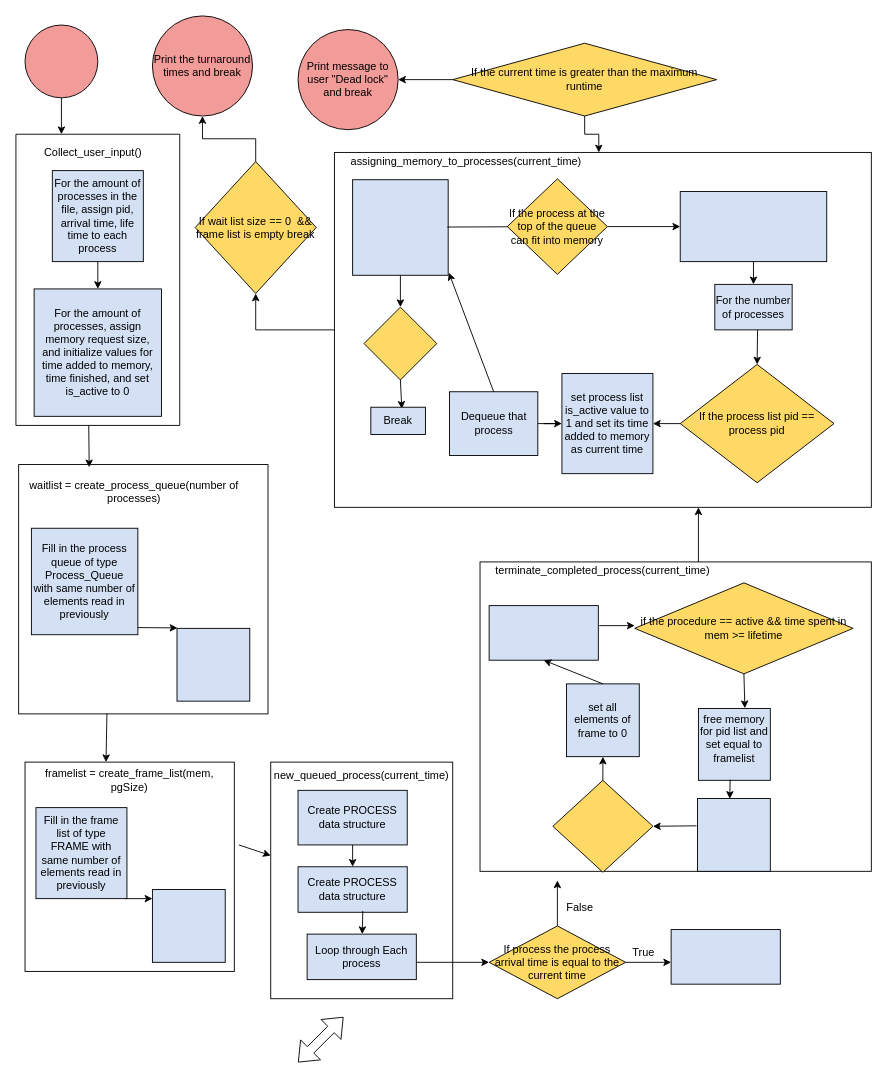
This 887x1078 diagram has some shape labels left out. The box of each missing label's shape, as (x1, y1, x2, y2) in pixels:
Add the process to the waitlist: (670, 929, 780, 984)
Assign result to framelist: (152, 889, 225, 962)
Assign result to waitList: (176, 627, 250, 701)
for each frame of that process: (697, 798, 770, 871)
For each procedure in the queue, calculate the time spent in memory: (488, 605, 598, 660)
For every process in the process queue, set index to top of element: (352, 179, 448, 275)
If no more memory: (363, 306, 437, 380)
If the frame at that index has the same pid as the procedure: (552, 779, 653, 872)
Set framelist to fit the procedure into memory: (679, 191, 827, 262)
User enters memory, page size, and file: (24, 24, 98, 98)
